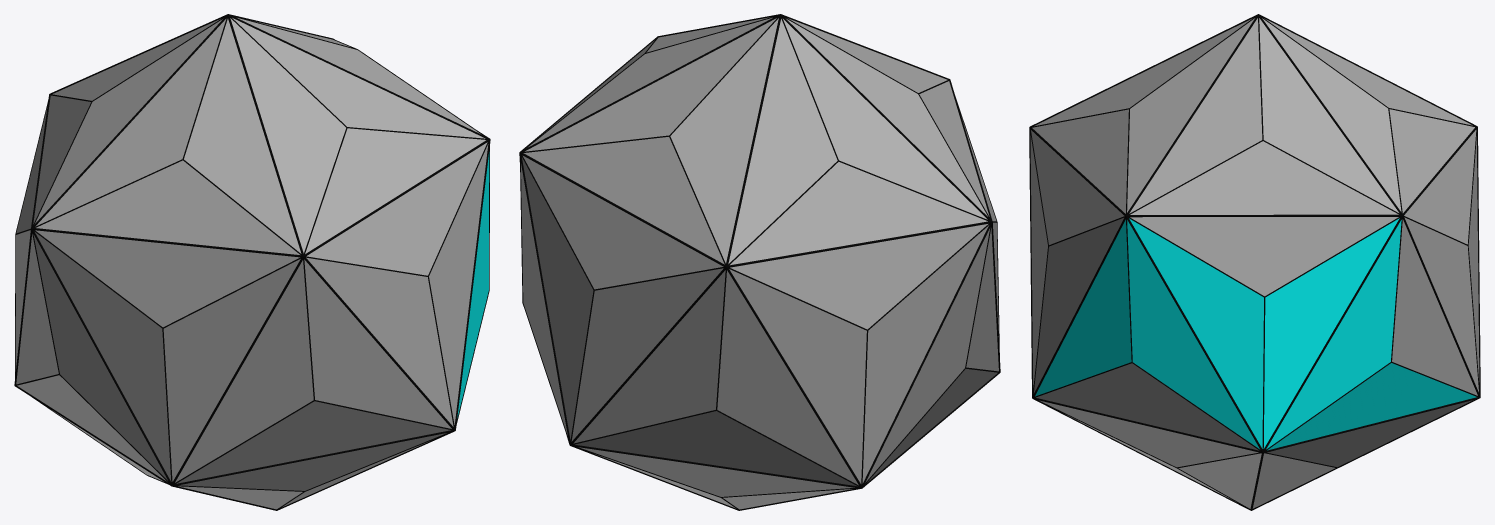
File: TriakisIcosahedron7.glb
The picture shows the model from 3 angles, left to right: view 1: azimuth 30°, elevation 25°; view 2: azimuth 150°, elevation 25°; view 3: azimuth 270°, elevation 25°; orthographic projection. The views are drawn at different scales.
Bounding box in the file's own units: 6.44 × 6.88 × 5.91.
